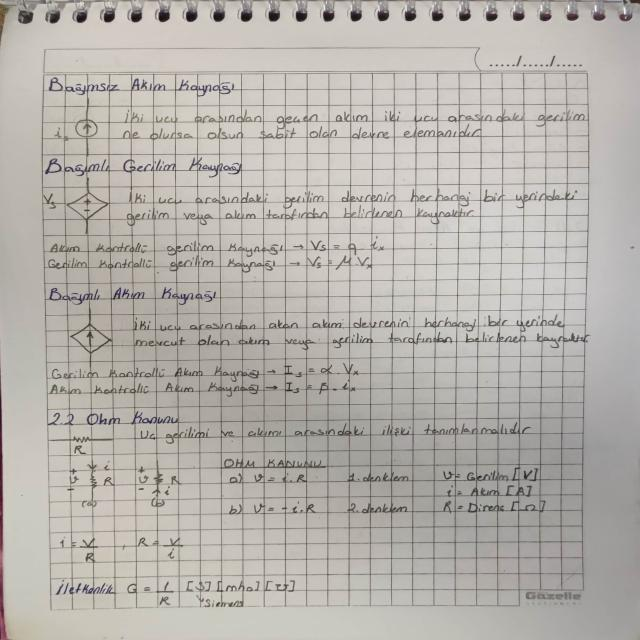image: (40, 173, 112, 237), (49, 94, 109, 160), (60, 456, 124, 511), (65, 308, 118, 366), (132, 458, 186, 512), (43, 432, 126, 458)
math: (125, 578, 298, 610), (276, 360, 366, 396), (303, 233, 391, 269), (134, 533, 195, 565), (226, 499, 320, 516), (58, 535, 105, 566), (224, 472, 315, 488)
text: (119, 185, 585, 226), (128, 313, 592, 350), (117, 105, 587, 139), (135, 418, 534, 445), (42, 241, 290, 273), (46, 365, 264, 398), (435, 462, 552, 516), (42, 155, 248, 177), (44, 284, 222, 306), (46, 76, 238, 94), (46, 411, 184, 426), (52, 577, 121, 598), (221, 457, 328, 470), (342, 466, 414, 484), (345, 499, 413, 516)
